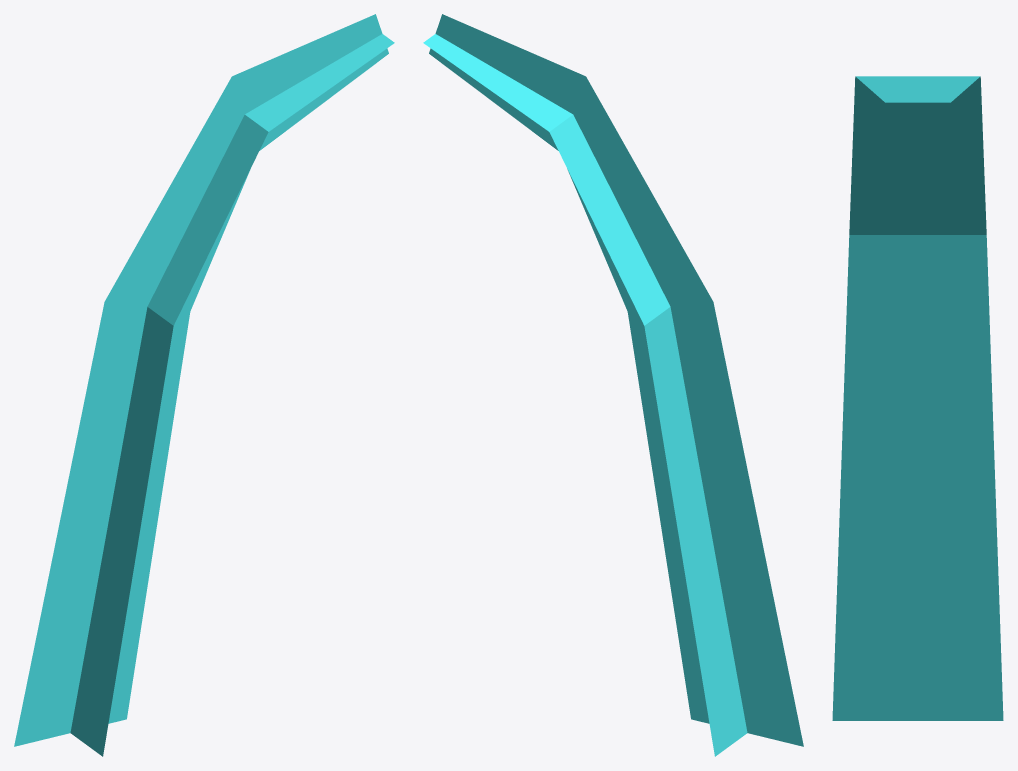
File: Brind d'herbe.fbx
3 renders of one model, left to right at view 1: azimuth 30°, elevation 25°; view 2: azimuth 150°, elevation 25°; view 3: azimuth 270°, elevation 25°, orthographic. The views are drawn at different scales.
Parts seen in each view (by area): view 1: Plane.001; view 2: Plane.001; view 3: Plane.001.
Part boxes in pixels (x1,y1,x2,y2): Plane.001: (14,14,394,756); Plane.001: (423,14,803,756); Plane.001: (832,76,1003,720).
Bounding box in the file's own units: 665 × 1092 × 200.
